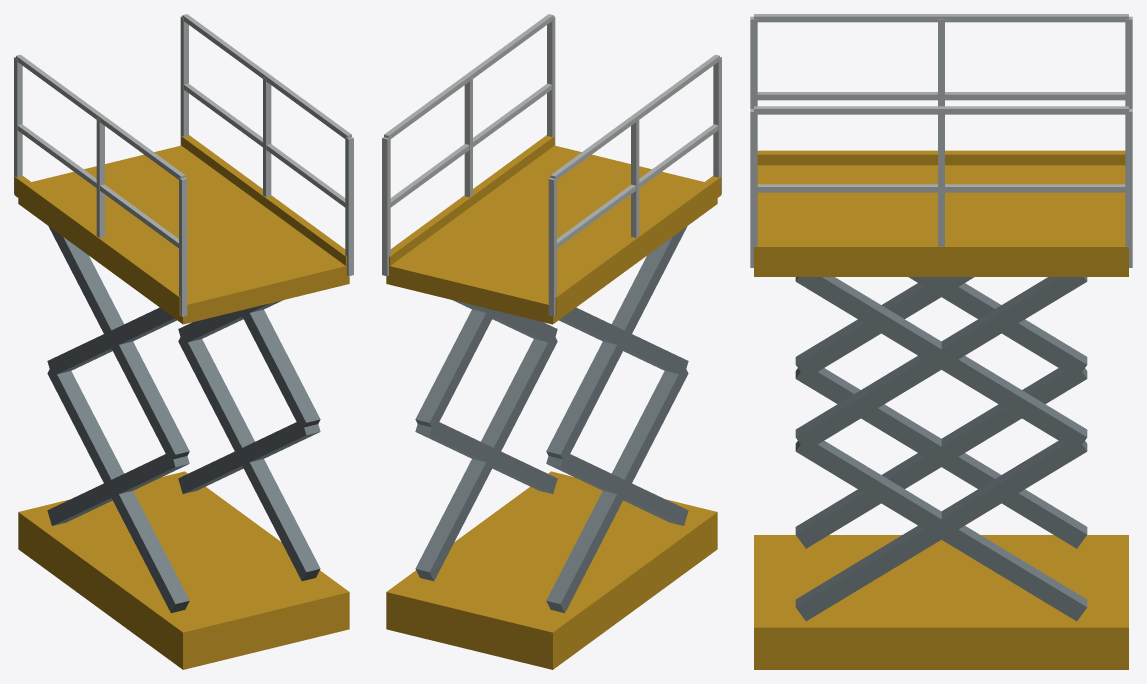
The model's file is scissor_lift.glb.
3 renders of one model, left to right at view 1: azimuth 30°, elevation 25°; view 2: azimuth 150°, elevation 25°; view 3: azimuth 270°, elevation 25°, orthographic. The views are drawn at different scales.
Visible parts, largest first — view 1: body; view 2: body; view 3: body.
Boxes of the visible parts, x1,y1,x2,y2 form: body: (14, 14, 353, 669); body: (382, 14, 721, 669); body: (750, 14, 1132, 669).
Size of the model in its own units: 1.46 by 3.97 by 2.45.
